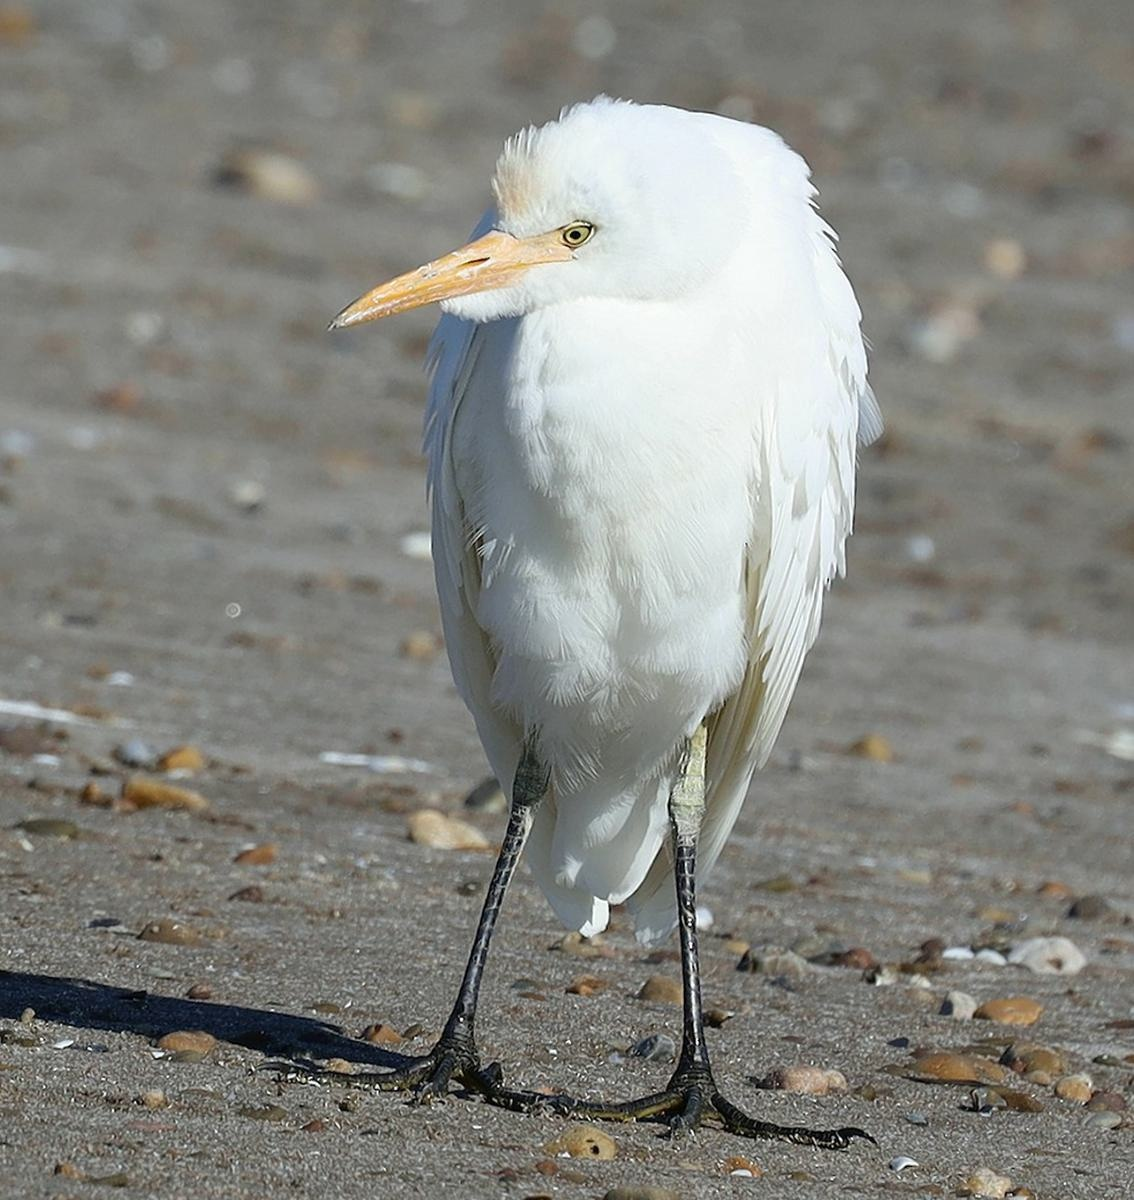egret: (335, 76, 879, 1153)
